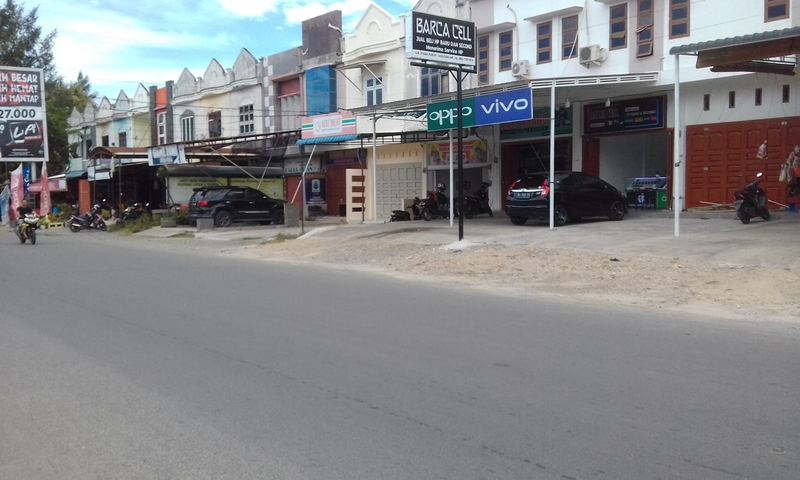car: (504, 168, 632, 229), (185, 184, 296, 231)
motorcycle: (732, 172, 774, 224), (67, 208, 110, 235), (15, 210, 42, 247)
